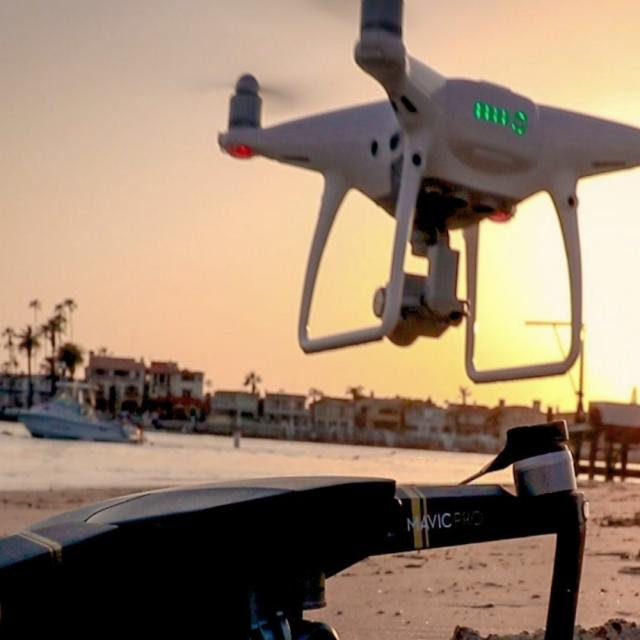drone: (0, 390, 640, 640), (178, 0, 640, 309)
